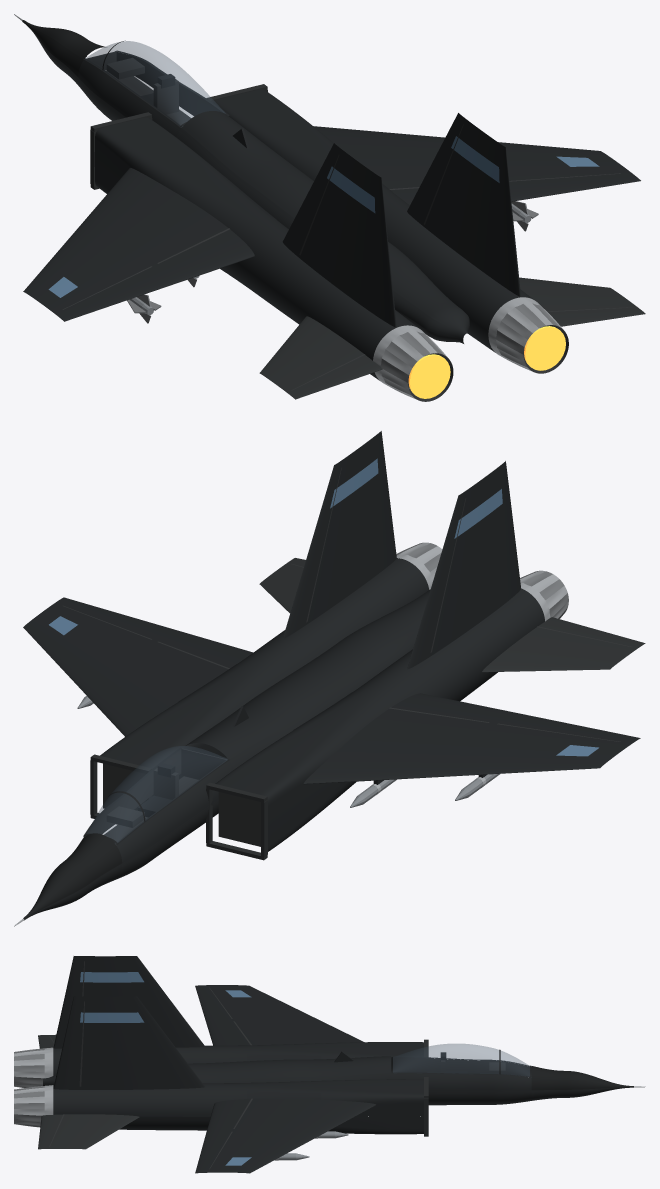
3 renders of one model, top to bottom at view 1: azimuth 30°, elevation 25°; view 2: azimuth 150°, elevation 25°; view 3: azimuth 270°, elevation 25°, orthographic. The views are drawn at different scales.
Parts seen in each view (by area): view 1: wing_L, engine_L, engine_R, fin_L, fin_R, wing_R, fuselage_top, stabilizer_L, canopy, stabilizer_R, fuselage_left, cockpit_skin_left (+12 smaller); view 2: engine_L, wing_L, wing_R, engine_R, fin_L, fin_R, fuselage_top, canopy, stabilizer_L, cockpit_skin_left, fuselage_left, intake_throat_L (+10 smaller); view 3: engine_R, fin_R, wing_R, wing_L, fin_L, engine_L, fuselage_top, canopy, stabilizer_R, cockpit_skin_right, cockpit_tub_L, cockpit_skin_belly (+8 smaller).
Boxes of the visible parts, x1,y1,x2,y2 form: wing_L: [23, 168, 254, 321]; engine_L: [94, 117, 419, 380]; engine_R: [213, 89, 533, 352]; fin_L: [282, 143, 396, 327]; fin_R: [407, 113, 520, 296]; wing_R: [313, 126, 640, 204]; fuselage_top: [182, 111, 468, 335]; stabilizer_L: [259, 316, 382, 399]; canopy: [85, 41, 225, 127]; stabilizer_R: [519, 277, 645, 326]; fuselage_left: [176, 128, 463, 339]; cockpit_skin_left: [78, 60, 181, 136]; engine_L: [215, 588, 544, 851]; wing_L: [303, 693, 640, 784]; wing_R: [23, 597, 252, 736]; engine_R: [100, 558, 429, 796]; fin_L: [407, 461, 520, 669]; fin_R: [283, 431, 396, 638]; fuselage_top: [186, 589, 430, 759]; canopy: [86, 746, 227, 842]; stabilizer_L: [482, 617, 645, 672]; cockpit_skin_left: [116, 761, 234, 862]; fuselage_left: [229, 630, 418, 769]; intake_throat_L: [218, 792, 260, 846]; engine_R: [53, 1079, 423, 1134]; fin_R: [53, 996, 204, 1089]; wing_R: [195, 1098, 375, 1173]; wing_L: [195, 985, 364, 1045]; fin_L: [53, 956, 204, 1048]; engine_L: [53, 1042, 423, 1075]; fuselage_top: [43, 1056, 391, 1080]; canopy: [393, 1044, 529, 1076]; stabilizer_R: [38, 1114, 139, 1149]; cockpit_skin_right: [391, 1073, 531, 1091]; cockpit_tub_L: [393, 1057, 529, 1076]; cockpit_skin_belly: [428, 1090, 531, 1105].
Size of the model in its own units: 13 by 4.32 by 18.5.
